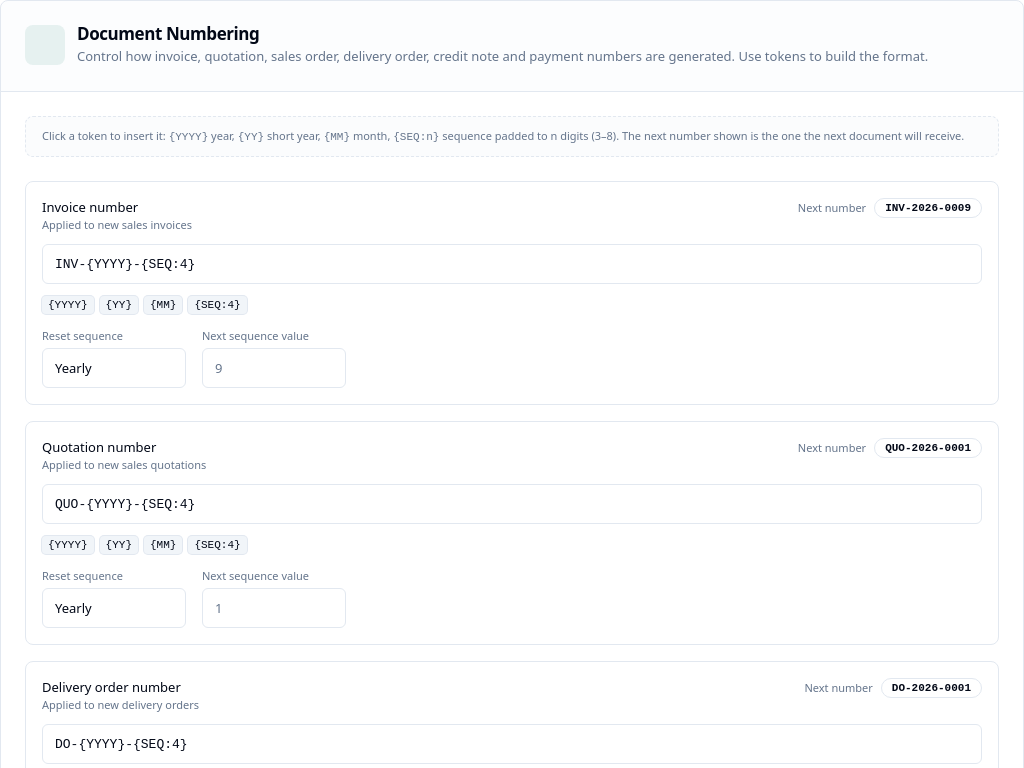
Test: NumberingSettings — next-number preview and reset period (#548) › inserts a token chip at the cursor
This screenshot has width=1024, height=768.
What coordinates should you click on to do the following:
click the button "{MM}" below "Applied to new sales quotations"
I would click on:
 (163, 545)
Its box is [144, 536, 182, 554].
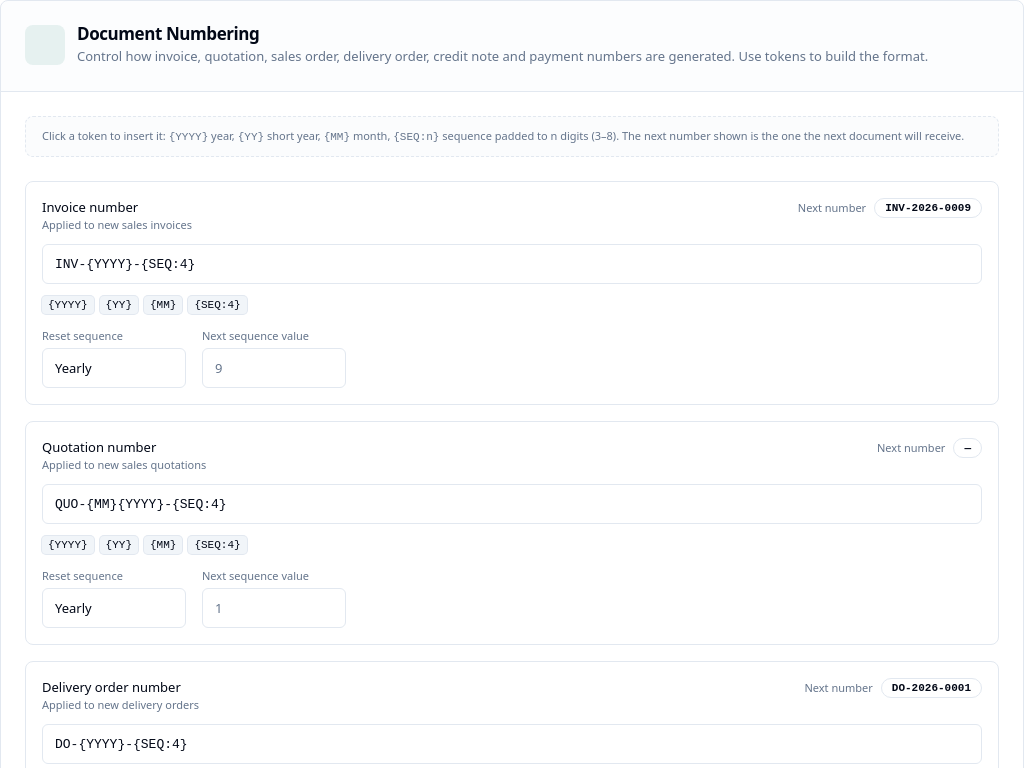
Now the field showing "QUO-{MM}{YYYY}-{SEQ:4}" is shown, box [42, 484, 982, 524]
